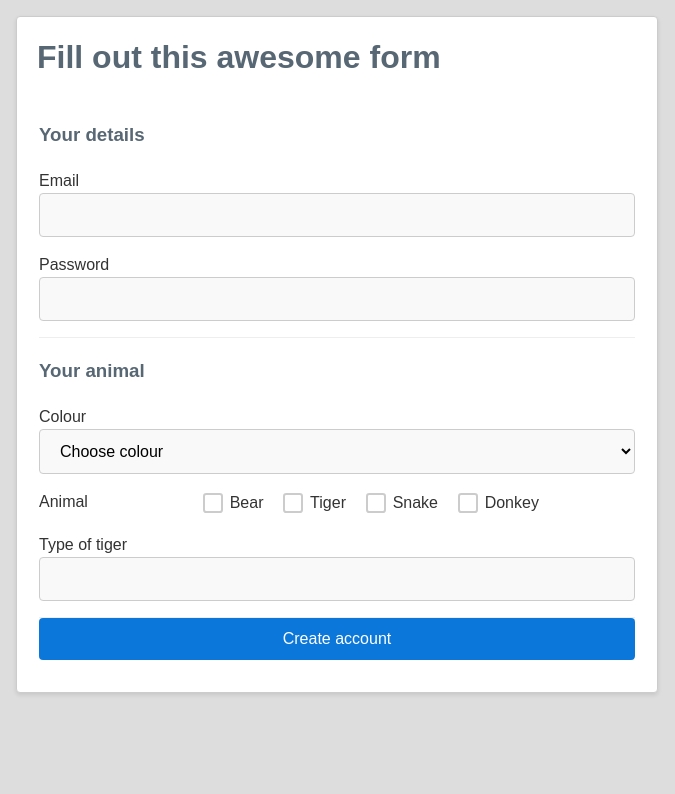
Test: App Component › shows validation errors on submit without filling the form
Click the button "Create account" at (337, 638), box [39, 618, 635, 660]
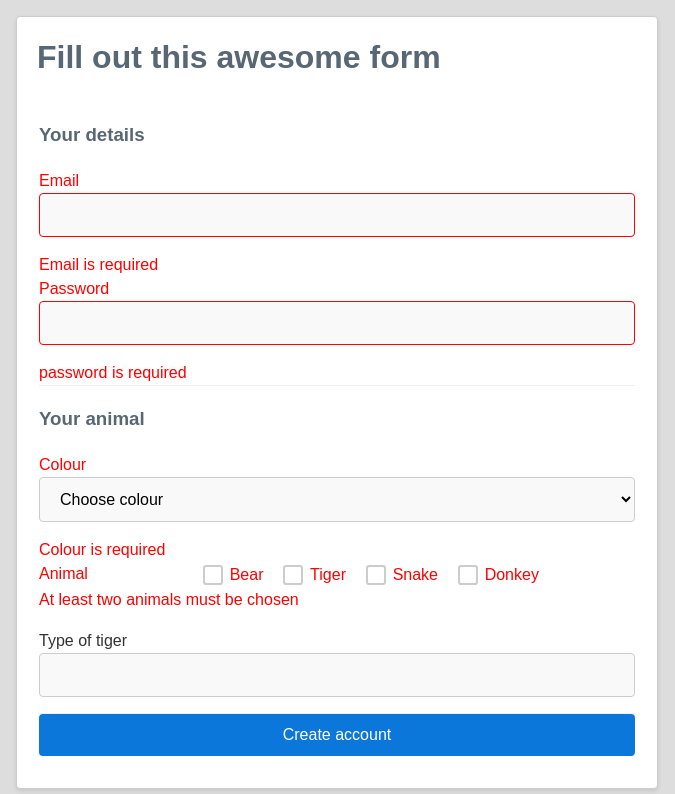
Result: the text "Email is required" is shown at [39, 256, 158, 273]
Result: the text "password is required" is shown at [39, 364, 187, 382]
Result: the text "Colour is required" is shown at [39, 541, 165, 558]
